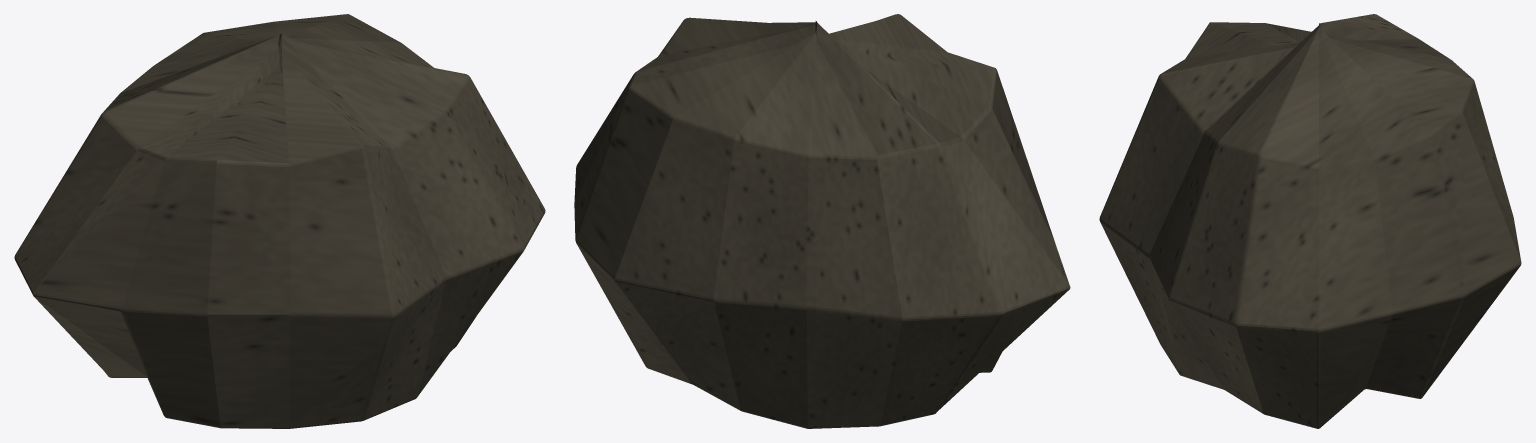
The model's file is PROP-BB5EFFBC48E1_lod0.glb.
The picture shows the model from 3 angles, left to right: view 1: azimuth 30°, elevation 25°; view 2: azimuth 150°, elevation 25°; view 3: azimuth 270°, elevation 25°; orthographic projection. The views are drawn at different scales.
Parts seen in each view (by area): view 1: rock.002; view 2: rock.002; view 3: rock.002.
Part boxes in pixels (box(x1,y1,x2,y2)): rock.002: box(14, 14, 545, 428); rock.002: box(574, 14, 1070, 428); rock.002: box(1099, 14, 1521, 428).
Size of the model in its own units: 0.9084 by 0.5919 by 0.7022.
Materials: 1 (1 with a texture image).
